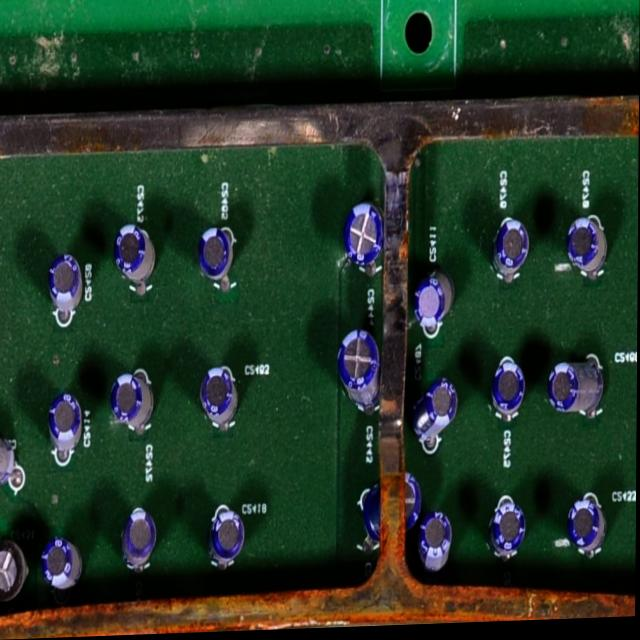capacitor: (190, 195, 262, 293), (485, 190, 546, 286), (187, 484, 255, 568), (355, 472, 423, 552), (344, 191, 401, 276), (109, 214, 171, 289), (336, 326, 389, 413), (482, 490, 533, 570), (411, 499, 463, 576), (561, 208, 609, 290), (547, 352, 596, 430), (45, 374, 87, 462), (415, 376, 462, 449), (117, 509, 159, 576), (42, 530, 87, 591), (412, 267, 450, 339), (44, 249, 87, 312), (110, 370, 153, 430), (204, 359, 240, 430), (567, 503, 608, 565), (0, 543, 32, 607), (0, 422, 24, 487), (487, 370, 518, 419)
